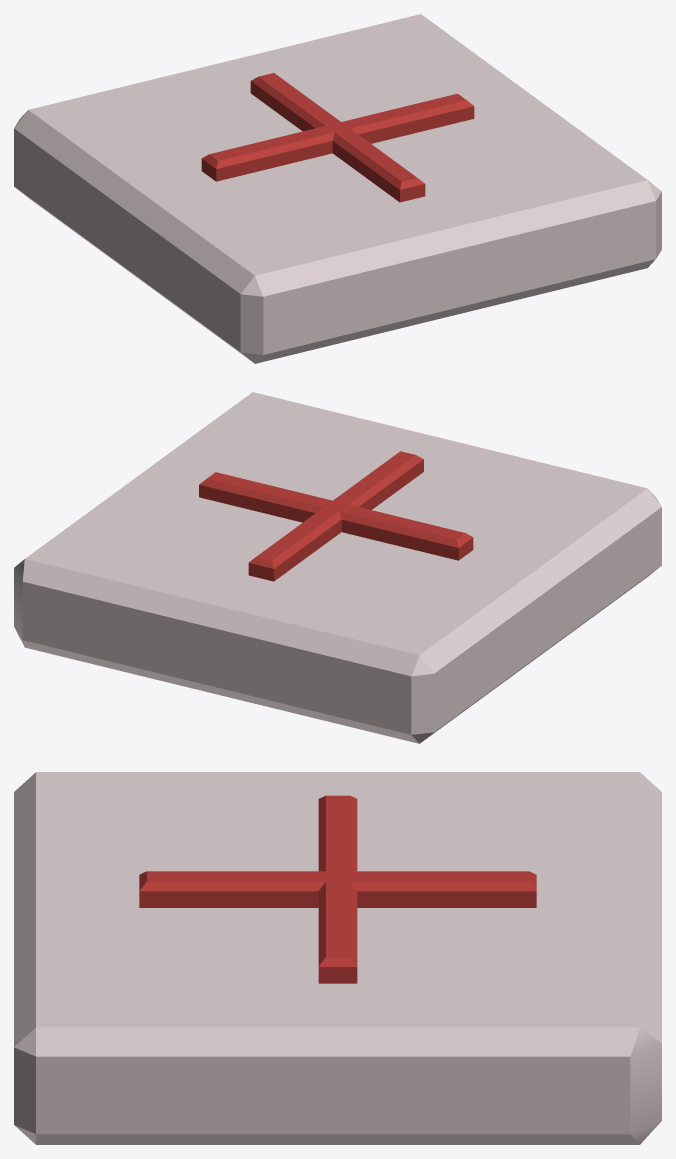
The model's file is Helf.fbx.
3 views of the same model, one above another, from view 1: azimuth 30°, elevation 25°; view 2: azimuth 150°, elevation 25°; view 3: azimuth 270°, elevation 25° (orthographic). The views are drawn at different scales.
Visible parts, largest first — view 1: Cube; view 2: Cube; view 3: Cube.
Boxes of the visible parts, x1,y1,x2,y2 form: Cube: (14,14,661,363); Cube: (14,392,661,743); Cube: (14,772,661,1144).
Bounding box in the file's own units: 40 × 9.6 × 40.
